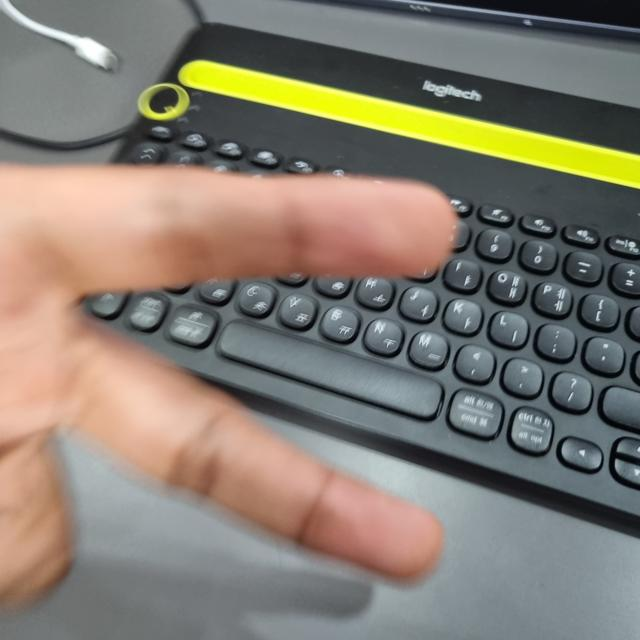Scissors: (1, 162, 443, 638)
